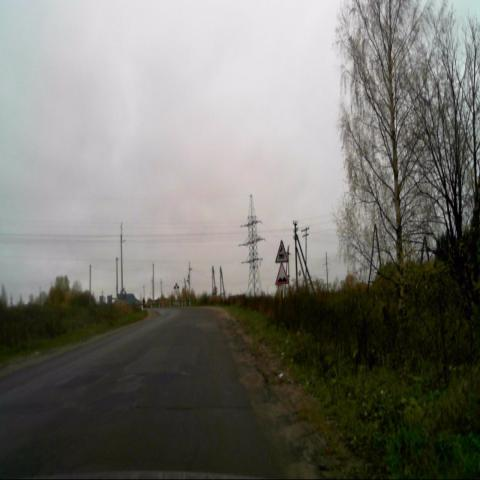1_16: (275, 261, 289, 286)
